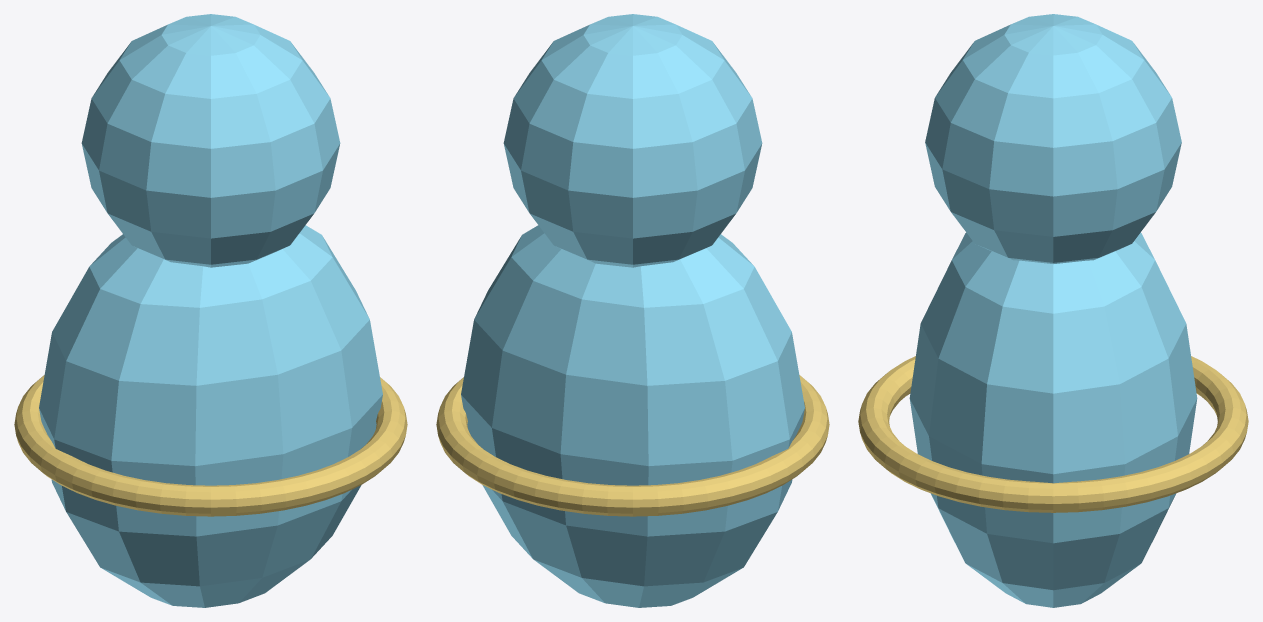
The model's file is player.glb.
The picture shows the model from 3 angles, left to right: view 1: azimuth 30°, elevation 25°; view 2: azimuth 150°, elevation 25°; view 3: azimuth 270°, elevation 25°; orthographic projection.
Visible parts, largest first — view 1: Player; view 2: Player; view 3: Player.
Part boxes in pixels (left/top/right/bottom): Player: left=14, top=14, right=407, bottom=607; Player: left=436, top=14, right=829, bottom=607; Player: left=858, top=14, right=1248, bottom=607.
Bounding box in the file's own units: 0.76 × 1.22 × 0.76.
